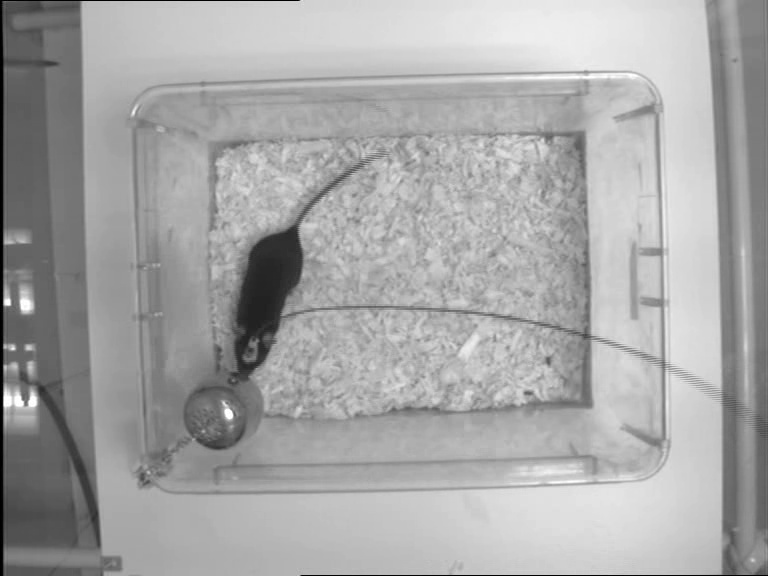mice: (231, 154, 381, 377)
